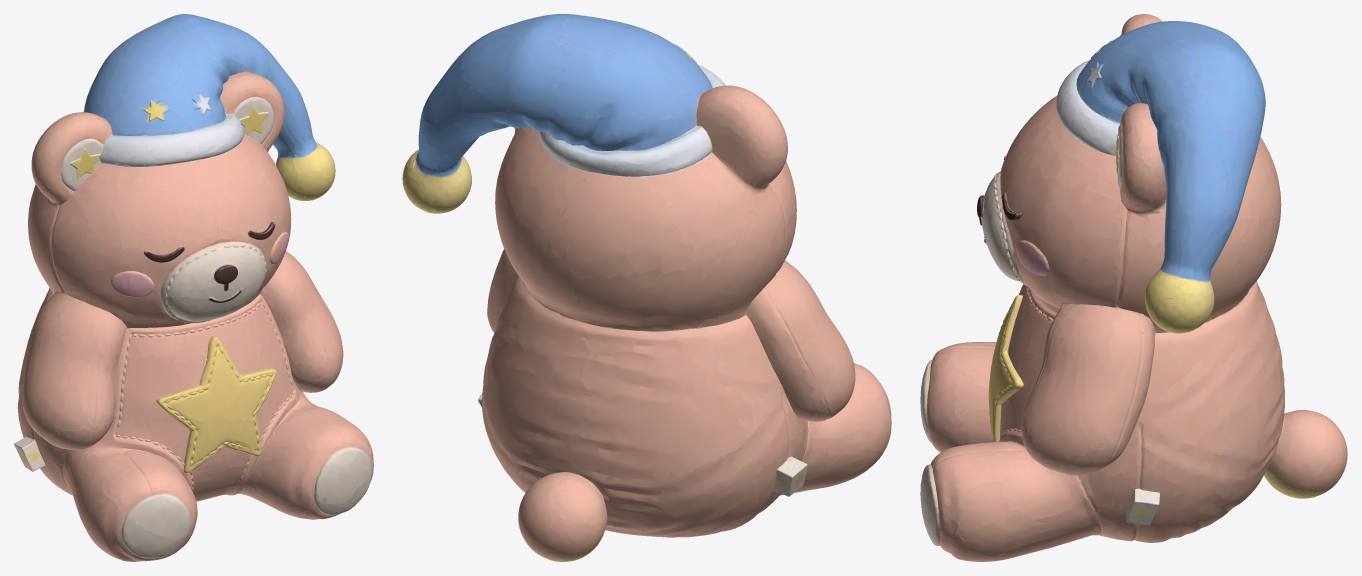
File: starbear.gen.glb
3 renders of one model, left to right at view 1: azimuth 30°, elevation 25°; view 2: azimuth 150°, elevation 25°; view 3: azimuth 270°, elevation 25°, orthographic. The views are drawn at different scales.
Parts seen in each view (by area): view 1: LOD0; view 2: LOD0; view 3: LOD0.
Boxes of the visible parts, box(x1,y1,x2,y2) form: LOD0: box(14, 14, 373, 561); LOD0: box(402, 14, 891, 561); LOD0: box(920, 14, 1347, 561).
Size of what is drawn, in the model's own units: 0.1852 by 0.2198 by 0.1745.
Materials: 1 (1 with a texture image).
